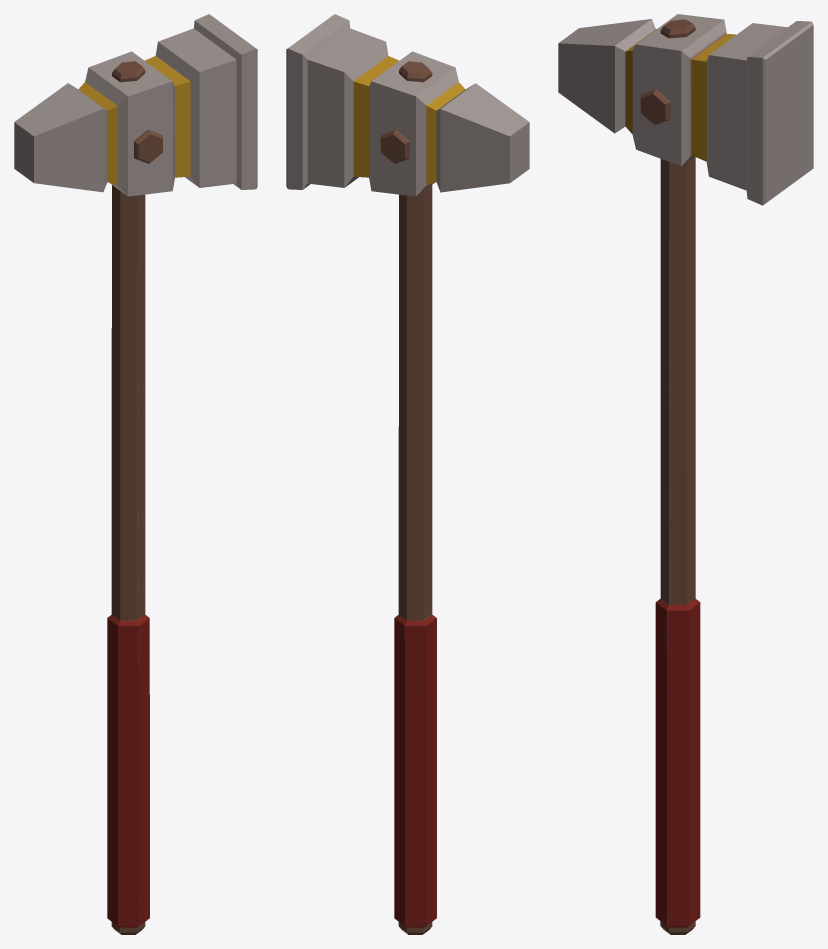
File: Hammer.fbx
3 views of the same model, side by side, from view 1: azimuth 30°, elevation 25°; view 2: azimuth 150°, elevation 25°; view 3: azimuth 330°, elevation 25° (orthographic). The views are drawn at different scales.
Visible parts, largest first — view 1: Hammer; view 2: Hammer; view 3: Hammer.
Boxes of the visible parts, x1,y1,x2,y2 form: Hammer: (14,14,257,934); Hammer: (286,14,529,934); Hammer: (558,14,813,934).
Size of the model in its own units: 38.98 by 154 by 15.12.
